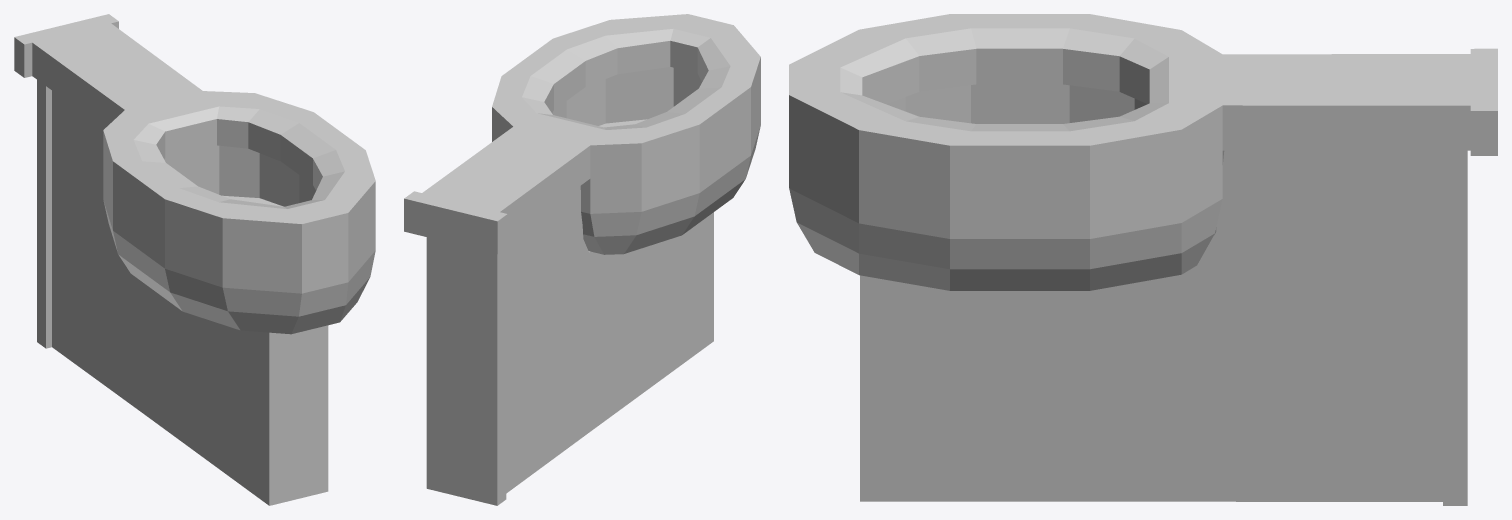
The model's file is P_Jail_Toilet.fbx.
3 renders of one model, left to right at view 1: azimuth 30°, elevation 25°; view 2: azimuth 150°, elevation 25°; view 3: azimuth 270°, elevation 25°, orthographic. The views are drawn at different scales.
Parts seen in each view (by area): view 1: P_Jail_Toilet; view 2: P_Jail_Toilet; view 3: P_Jail_Toilet.
Part boxes in pixels (<box>): P_Jail_Toilet: <box>14,14,375,505</box>; P_Jail_Toilet: <box>404,14,760,505</box>; P_Jail_Toilet: <box>789,14,1497,505</box>.
Bounding box in the file's own units: 284 × 645 × 404.
